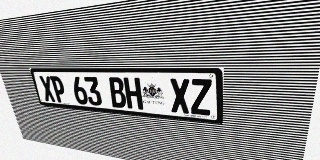3: (84, 77, 103, 106)
6: (70, 76, 89, 105)
B: (107, 77, 127, 108)
H: (123, 77, 143, 110)
P: (50, 76, 68, 103)
X: (169, 78, 190, 114), (39, 76, 56, 102)
Z: (190, 79, 212, 116)
